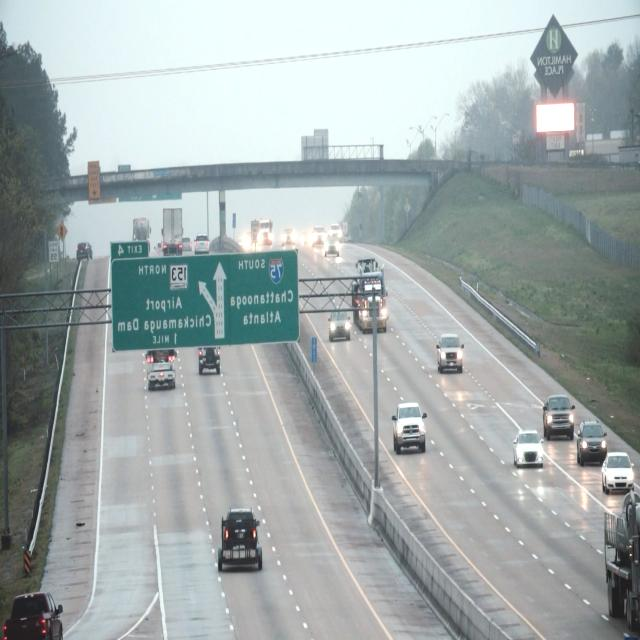Vehicle: (216, 508, 261, 570), (355, 259, 390, 336), (392, 398, 427, 454), (541, 393, 575, 440), (600, 451, 634, 494), (435, 327, 463, 373), (576, 423, 605, 466), (513, 430, 542, 469), (144, 350, 175, 386), (328, 308, 349, 344)
